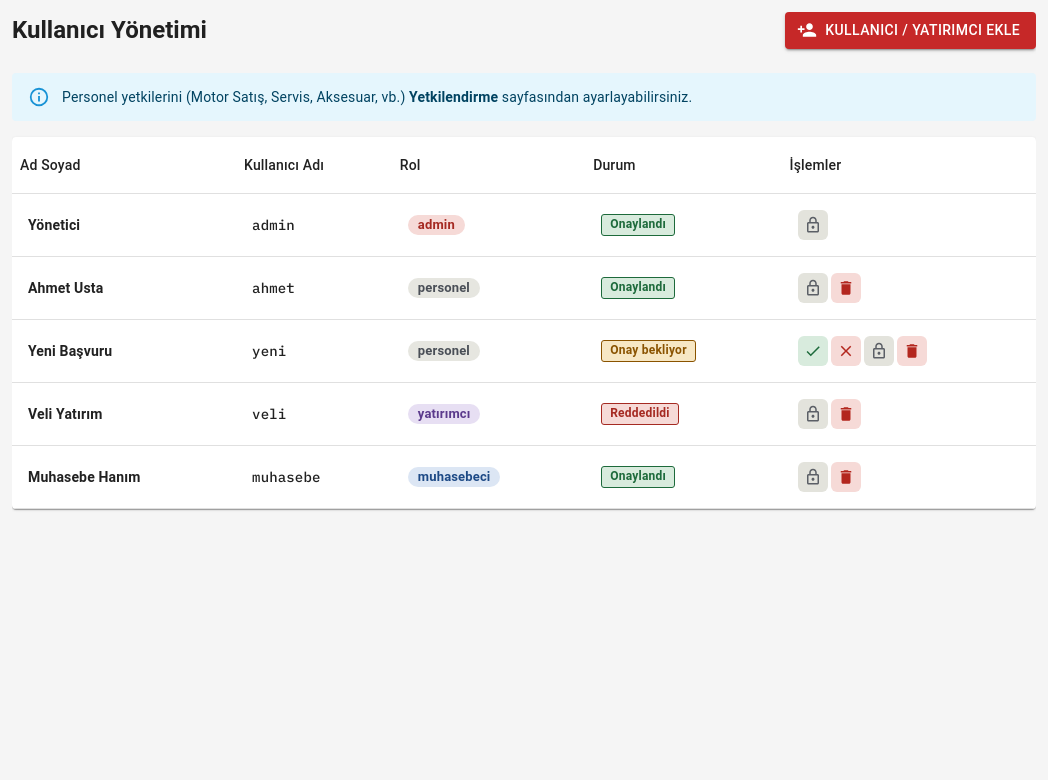
Test: Kullanıcılar: başvuru onayı › onaylama başarısız olursa "Onaylama hatası" uyarısı çıkar
The width and height of the screenshot is (1048, 780).
expect the text "Ahmet Usta" is shown: met, box x1=12 y1=256 x2=236 y2=319
Click the button named "Onayla": (813, 350) x1=798 y1=336 x2=828 y2=366
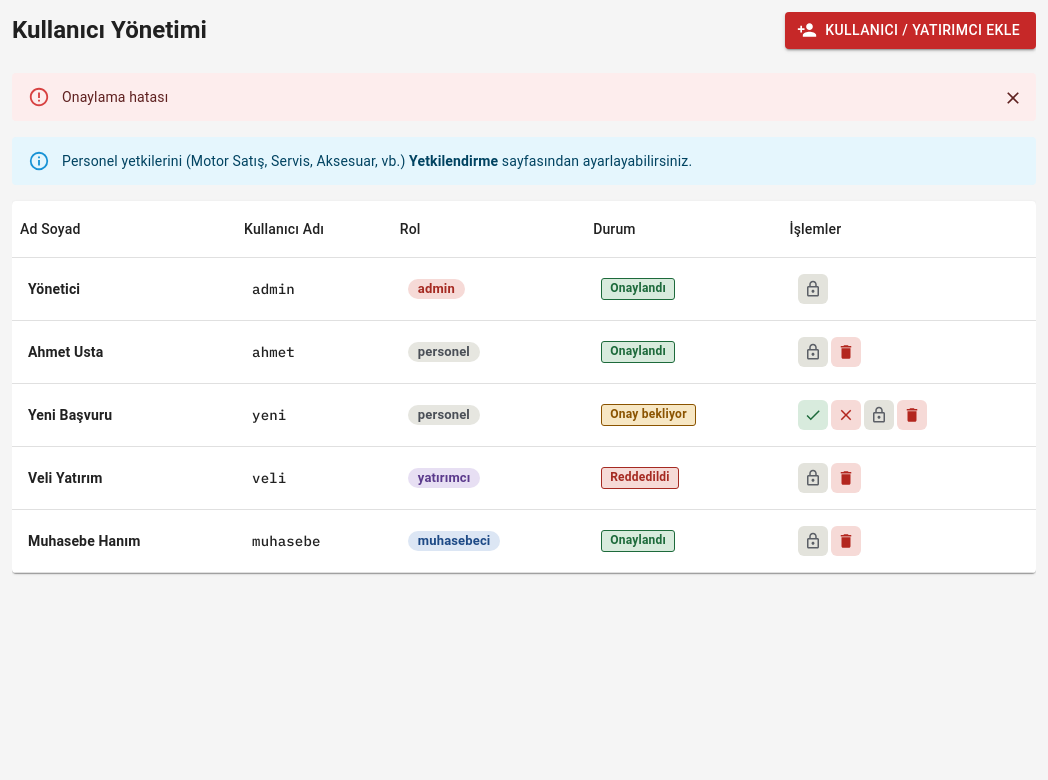
expect the text "Onaylama hatası" is shown: met, box x1=62 y1=88 x2=168 y2=104
